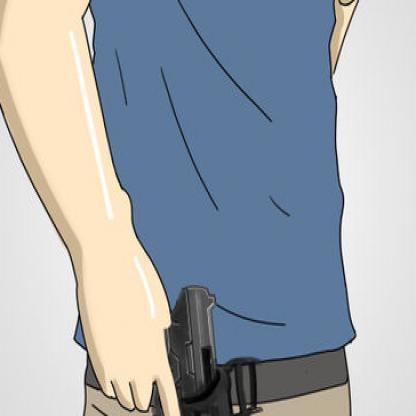gun: (63, 291, 258, 415)
